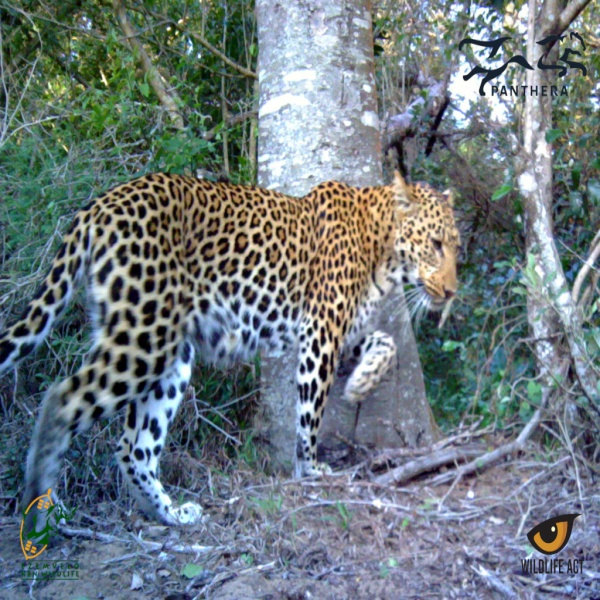Leopard: (3, 164, 465, 539)
